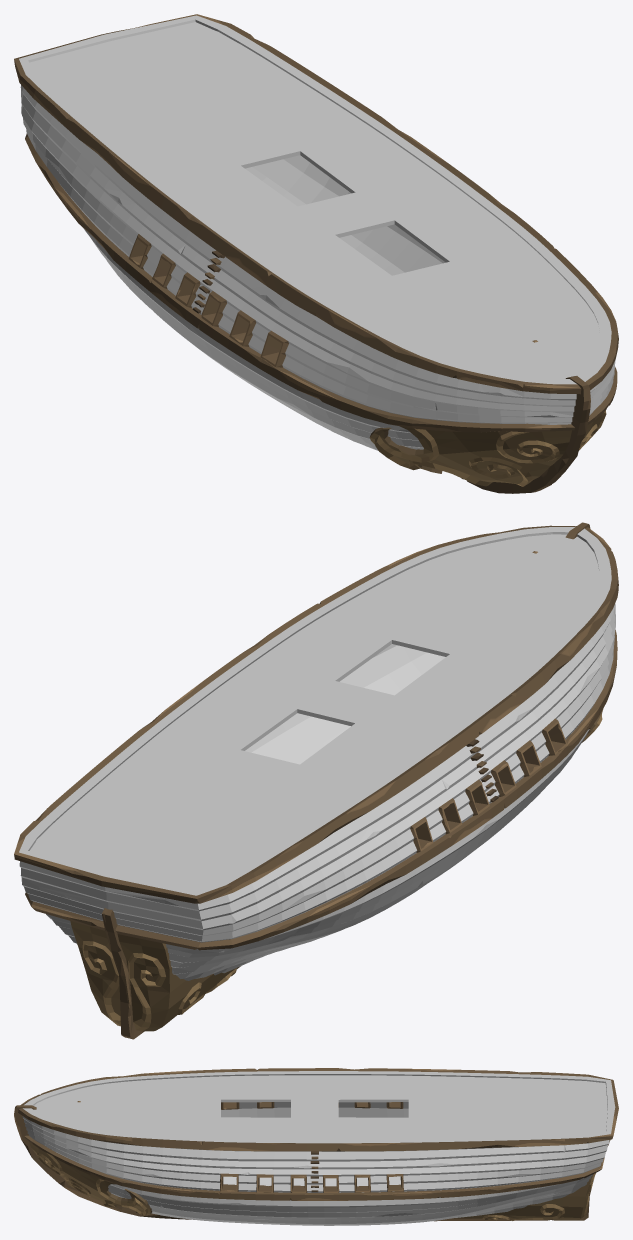
File: SM_Veh_Ship_L_Hull_02.fbx
3 renders of one model, top to bottom at view 1: azimuth 30°, elevation 25°; view 2: azimuth 150°, elevation 25°; view 3: azimuth 270°, elevation 25°, orthographic. The views are drawn at different scales.
Parts seen in each view (by area): view 1: SM_Veh_Ship_L_Hull_02; view 2: SM_Veh_Ship_L_Hull_02; view 3: SM_Veh_Ship_L_Hull_02.
Boxes of the visible parts, x1=… form: SM_Veh_Ship_L_Hull_02: x1=14, y1=14, x2=618, y2=493; SM_Veh_Ship_L_Hull_02: x1=14, y1=522, x2=618, y2=1039; SM_Veh_Ship_L_Hull_02: x1=14, y1=1068, x2=618, y2=1225.
Size of the model in its own units: 1329 by 790 by 3647.
